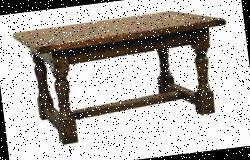Mesa: (13, 6, 235, 148)
